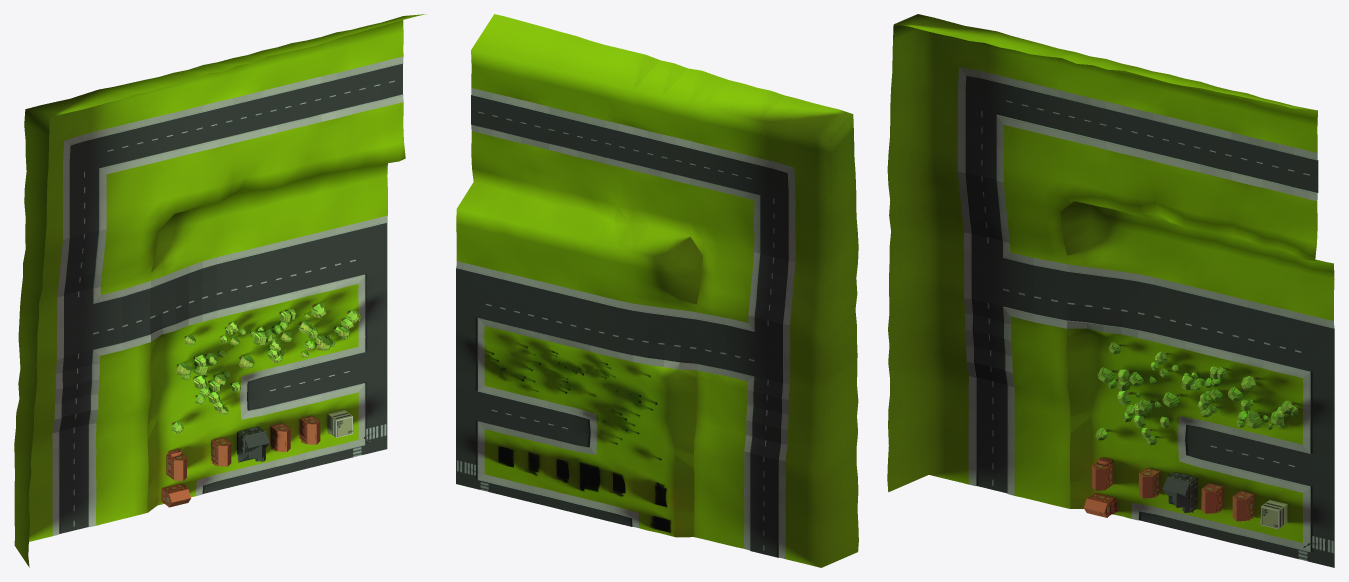
File: city-block-1.obj
The picture shows the model from 3 angles, left to right: view 1: azimuth 30°, elevation 25°; view 2: azimuth 150°, elevation 25°; view 3: azimuth 330°, elevation 25°; orthographic projection. The views are drawn at different scales.
Size of the model in its own units: 317 by 360 by 57.23.
